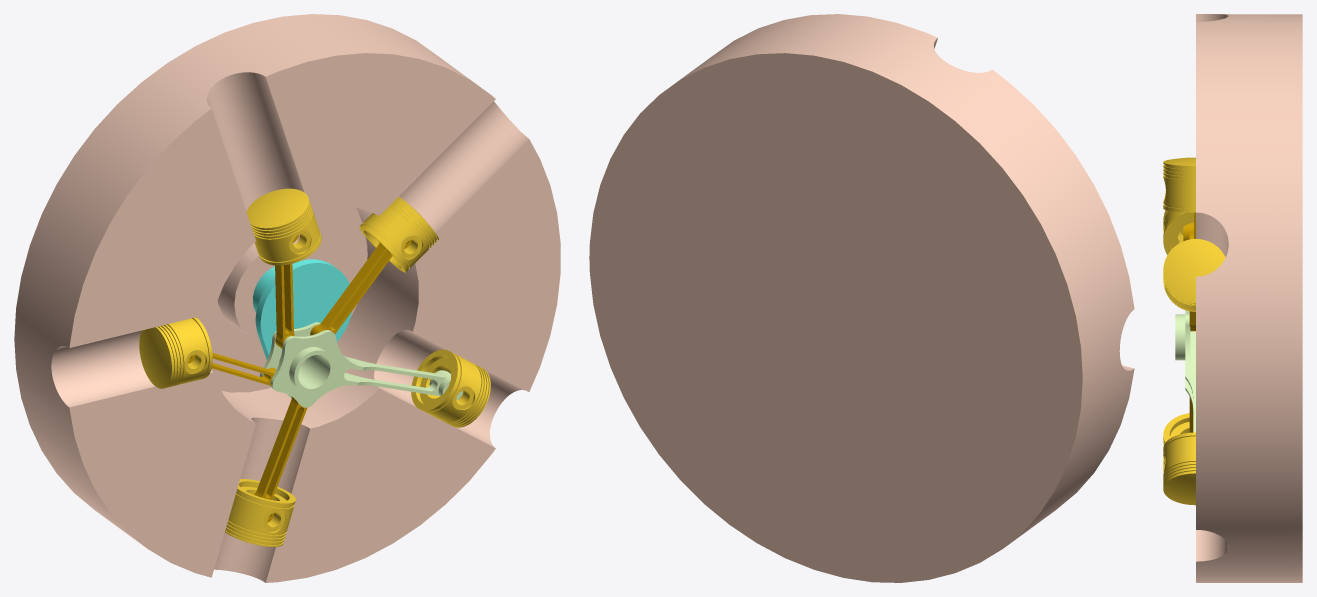
Rendered from radial_engine_assem.glb.
The picture shows the model from 3 angles, left to right: view 1: azimuth 30°, elevation 25°; view 2: azimuth 150°, elevation 25°; view 3: azimuth 270°, elevation 25°; orthographic projection.
Parts seen in each view (by area): view 1: body-1, Master_Rod-1, crank-1, piston-3, piston-5, piston-1, piston-4, piston-2, shaft-2, shaft-4, shaft-3, shaft-1; view 2: body-1; view 3: body-1, piston-2, piston-1, piston-3, Master_Rod-1, piston-5, piston-4.
Part boxes in pixels (x1=…): body-1: x1=14, y1=14, x2=560, y2=582; Master_Rod-1: x1=260, y1=322, x2=463, y2=407; crank-1: x1=253, y1=259, x2=351, y2=359; piston-3: x1=246, y1=188, x2=321, y2=265; piston-5: x1=139, y1=317, x2=212, y2=388; piston-1: x1=411, y1=349, x2=490, y2=427; piston-4: x1=225, y1=479, x2=295, y2=546; piston-2: x1=359, y1=197, x2=438, y2=272; shaft-2: x1=310, y1=240, x2=411, y2=335; shaft-4: x1=251, y1=396, x2=307, y2=522; shaft-3: x1=275, y1=235, x2=299, y2=348; shaft-1: x1=188, y1=353, x2=276, y2=386; body-1: x1=589, y1=14, x2=1134, y2=582; body-1: x1=1196, y1=14, x2=1302, y2=582; piston-2: x1=1163, y1=239, x2=1225, y2=311; piston-1: x1=1163, y1=432, x2=1195, y2=505; piston-3: x1=1163, y1=157, x2=1195, y2=212; Master_Rod-1: x1=1175, y1=310, x2=1195, y2=432; piston-5: x1=1163, y1=210, x2=1193, y2=254; piston-4: x1=1163, y1=413, x2=1189, y2=471.
Size of the model in its own units: 0.8 by 0.7997 by 0.196.
